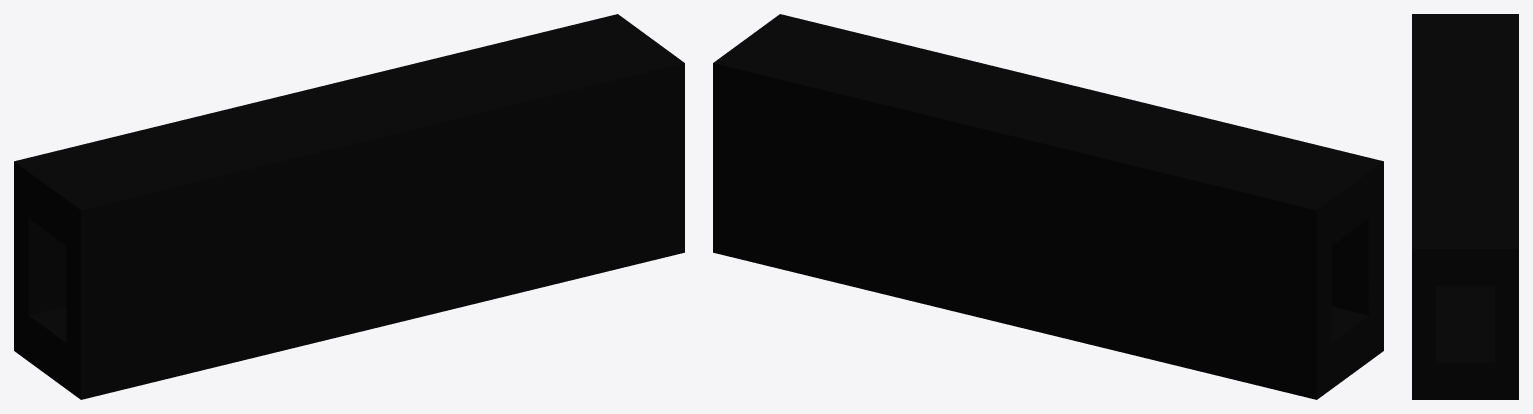
Rendered from body__guide_shell.glb.
3 renders of one model, left to right at view 1: azimuth 30°, elevation 25°; view 2: azimuth 150°, elevation 25°; view 3: azimuth 270°, elevation 25°, orthographic. The views are drawn at different scales.
Parts seen in each view (by area): view 1: geometry_0; view 2: geometry_0; view 3: geometry_0.
Part boxes in pixels (x1,y1,x2,y2): geometry_0: (14, 14, 684, 399); geometry_0: (713, 14, 1383, 399); geometry_0: (1412, 14, 1518, 399).
Bounding box in the file's own units: 0.26 × 0.078 × 0.05.
Materials: 1 (1 with a texture image).
